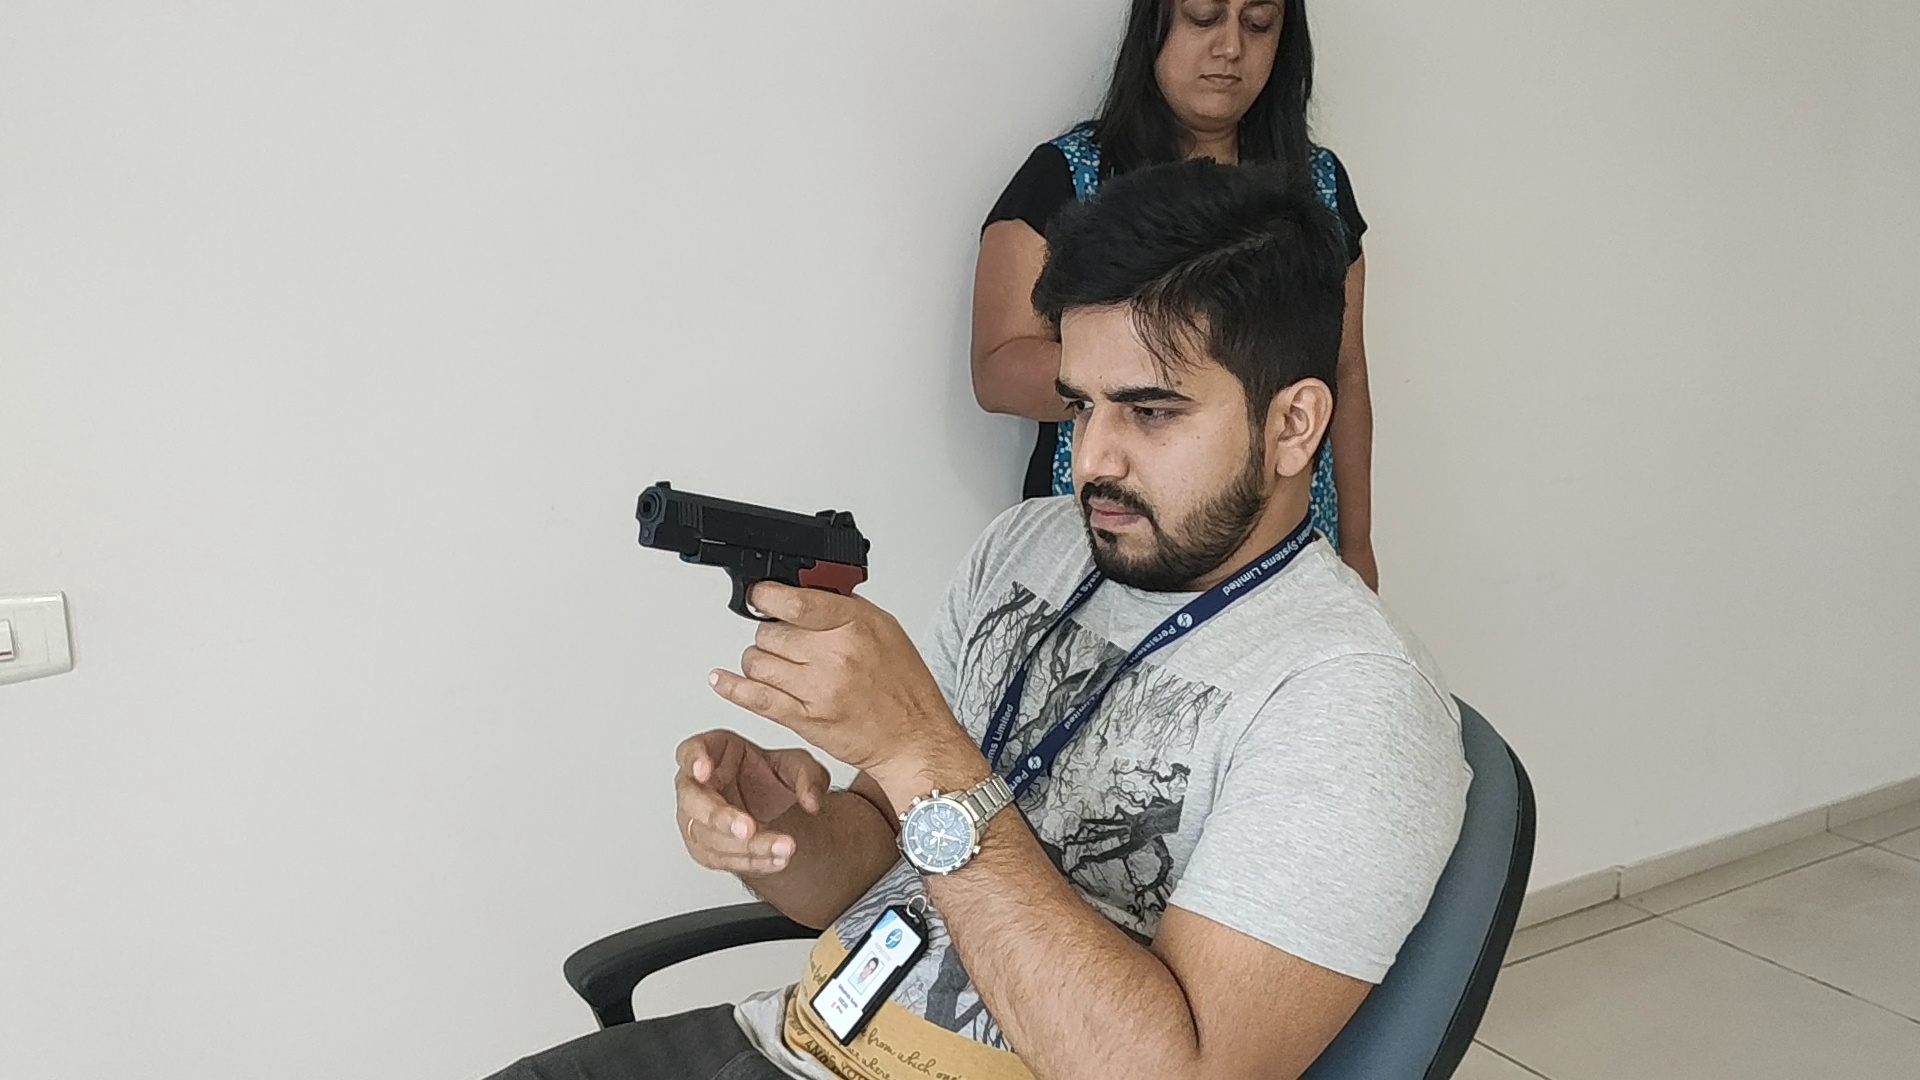gun: (636, 476, 870, 596)
